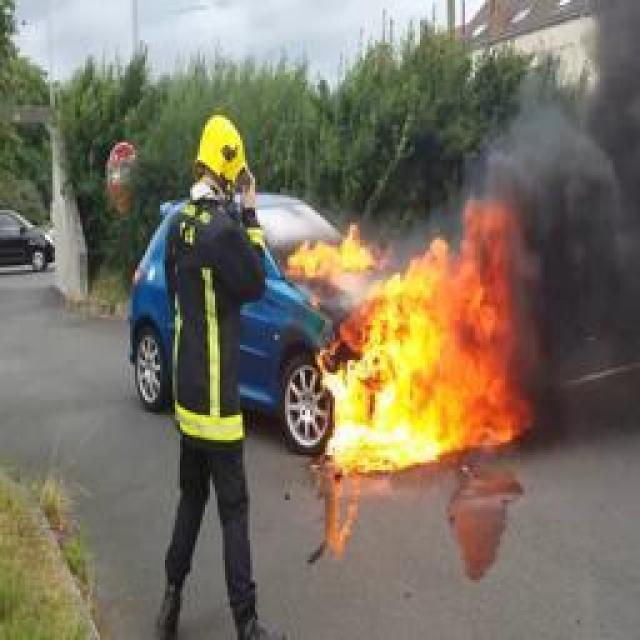Fire: (317, 197, 525, 475), (285, 218, 375, 270)
